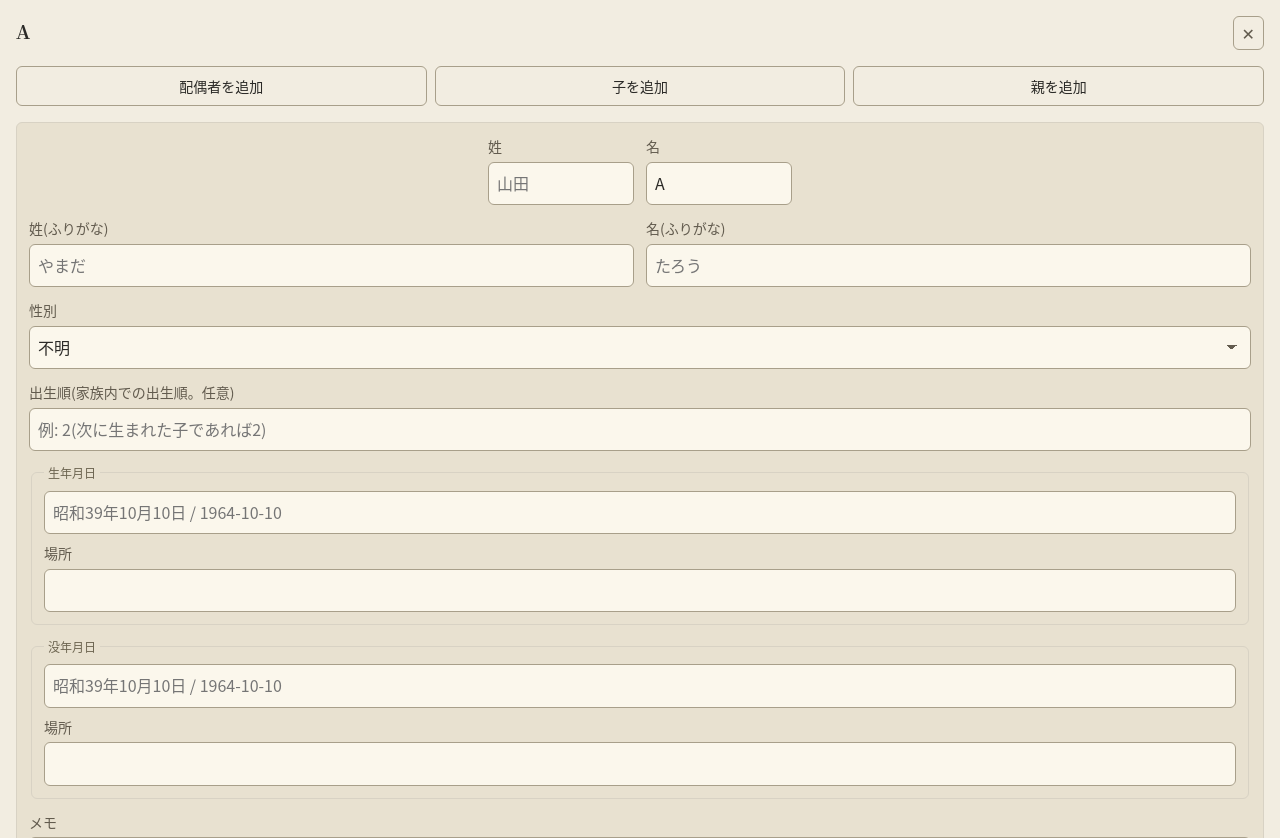
PersonPanel: フォームの開閉 › キャンセルでフォームが閉じ、データは変更されない
The image size is (1280, 838).
Click the button "配偶者を追加" at (221, 86), box [16, 66, 427, 106]
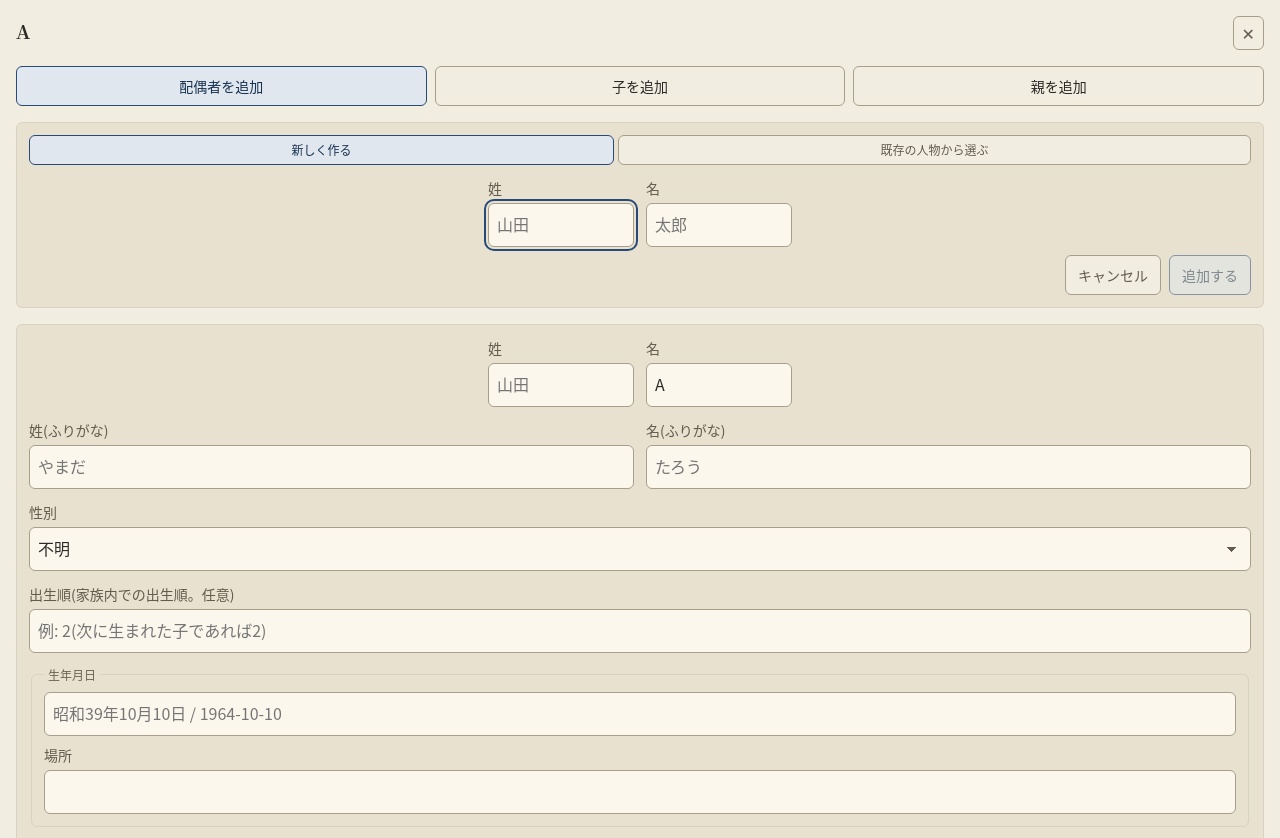
Type "B" into the 1st field labelled "名" at (719, 225), box [646, 203, 792, 247]
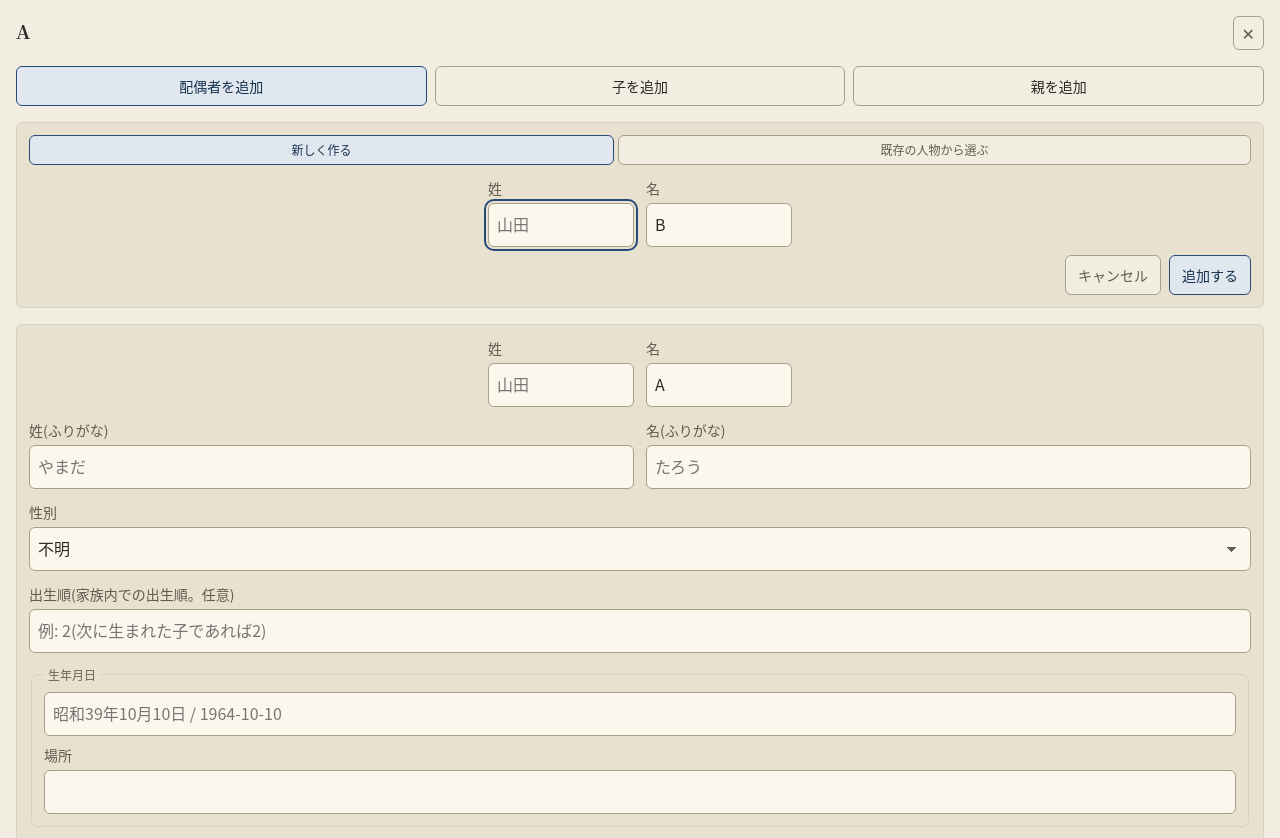
Click the button "キャンセル" at (1113, 275), box [1065, 255, 1161, 295]
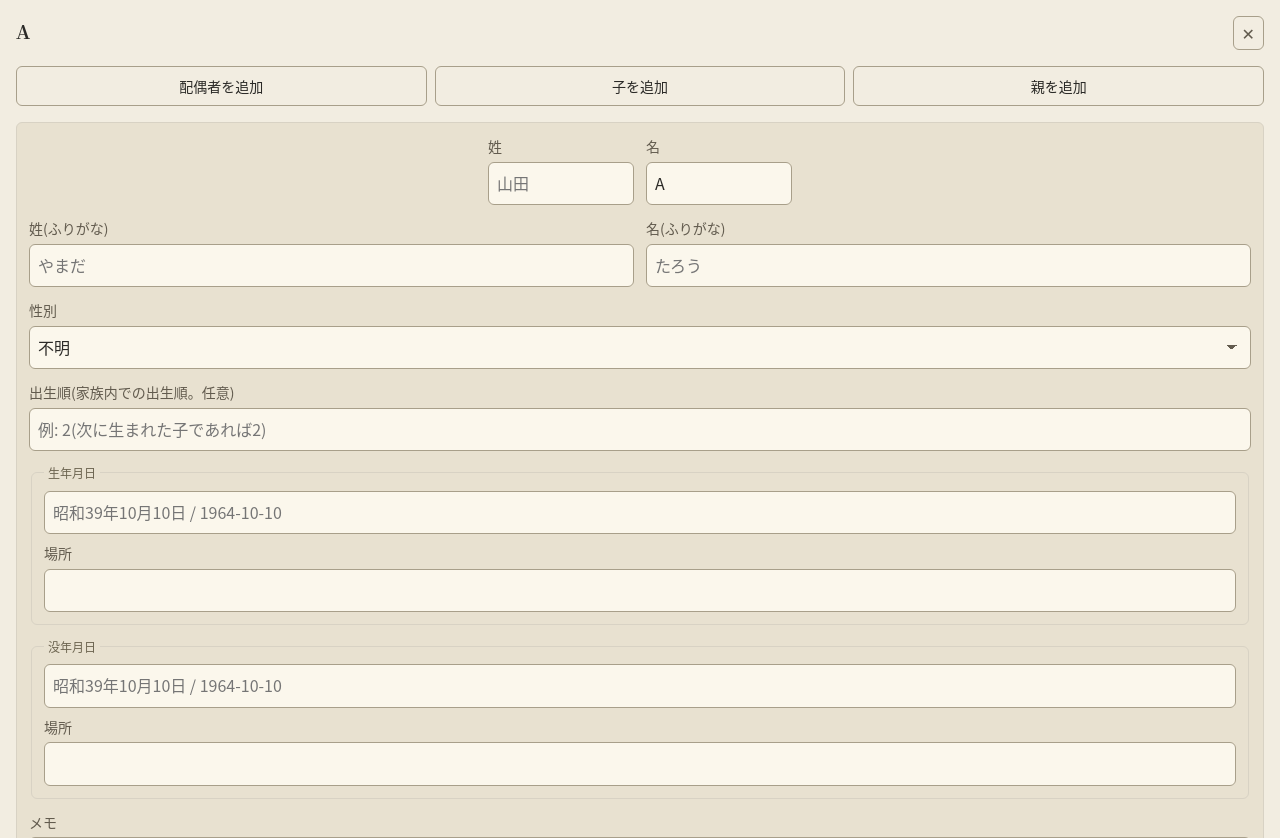
Expected: the number of fields labelled "名" is 1, [646, 162, 792, 205]
